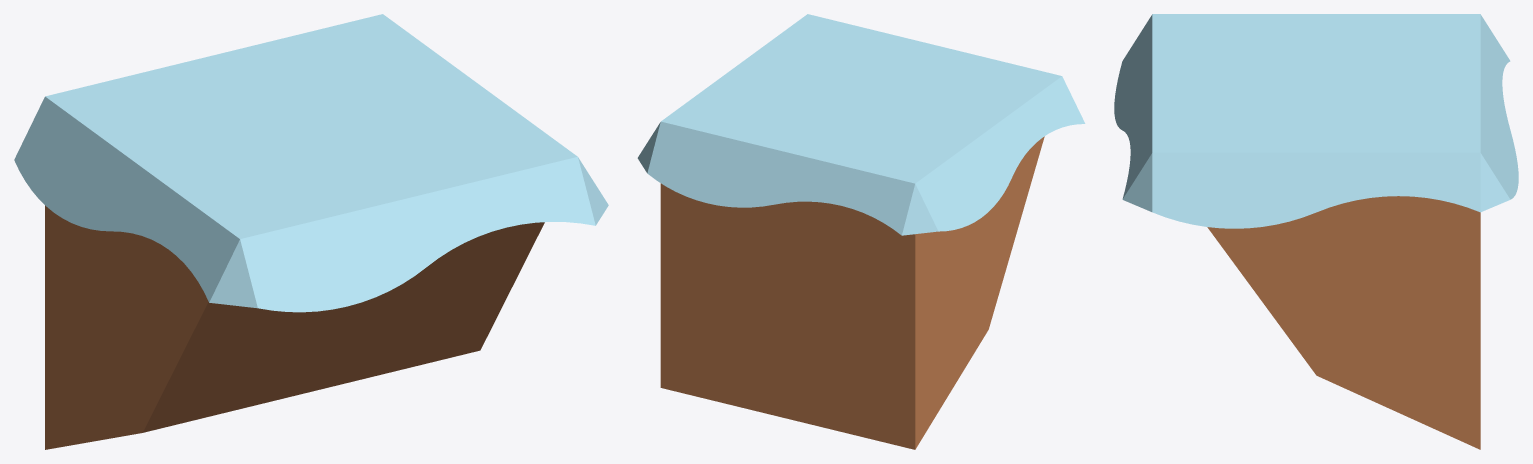
File: blockSnowCliff.dae
3 views of the same model, side by side, from view 1: azimuth 30°, elevation 25°; view 2: azimuth 150°, elevation 25°; view 3: azimuth 270°, elevation 25° (orthographic). The views are drawn at different scales.
Visible parts, largest first — view 1: blockSnowCliff; view 2: blockSnowCliff; view 3: blockSnowCliff.
Part boxes in pixels (box(x1,y1,x2,y2)): blockSnowCliff: box(14, 14, 608, 449); blockSnowCliff: box(637, 14, 1085, 449); blockSnowCliff: box(1114, 14, 1518, 449).
Bounding box in the file's own units: 1.23 × 1 × 1.23.
